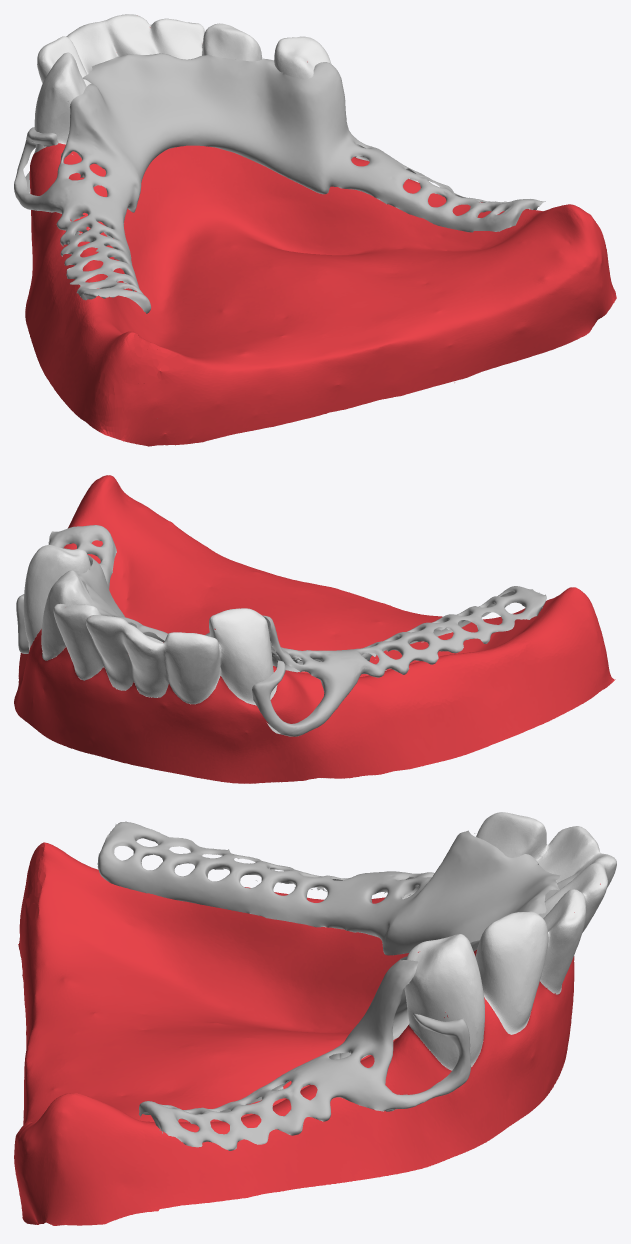
Rendered from 1756429975075-02_cast+teeth-draco.glb.
3 views of the same model, one above another, from view 1: azimuth 30°, elevation 25°; view 2: azimuth 150°, elevation 25°; view 3: azimuth 270°, elevation 25° (orthographic). The views are drawn at different scales.
Visible parts, largest first — view 1: 02_teeth, 02_cast; view 2: 02_teeth, 02_cast; view 3: 02_teeth, 02_cast.
Boxes of the visible parts, x1,y1,x2,y2 form: 02_teeth: [25, 14, 616, 446]; 02_cast: [14, 53, 545, 313]; 02_teeth: [14, 475, 615, 783]; 02_cast: [16, 525, 546, 736]; 02_teeth: [14, 812, 616, 1225]; 02_cast: [97, 821, 560, 1150].
Size of the model in its own units: 65.43 by 24.95 by 54.77.
